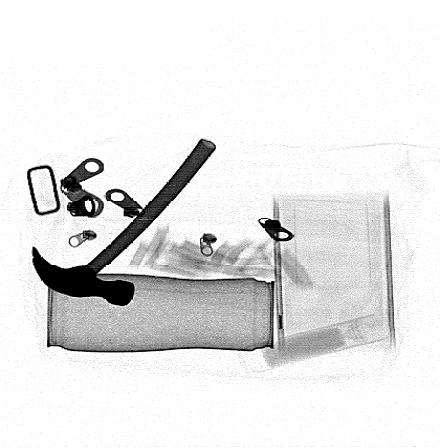Hammer: (31, 137, 216, 306)
